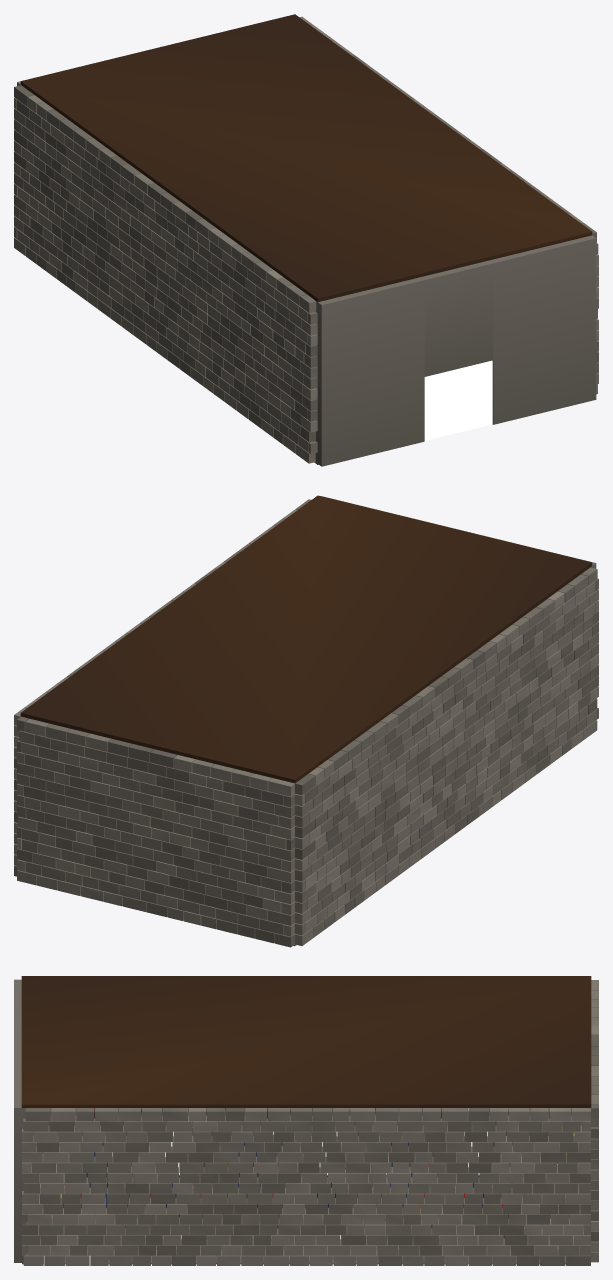
The model's file is room_hall.glb.
3 views of the same model, one above another, from view 1: azimuth 30°, elevation 25°; view 2: azimuth 150°, elevation 25°; view 3: azimuth 270°, elevation 25° (orthographic). The views are drawn at different scales.
Parts seen in each view (by area): view 1: room_hall; view 2: room_hall; view 3: room_hall.
Part boxes in pixels (x1,y1,x2,y2): room_hall: (14, 14, 598, 466); room_hall: (14, 495, 598, 947); room_hall: (14, 976, 598, 1265).
Bounding box in the file's own units: 16.8 × 9.28 × 30.8.
